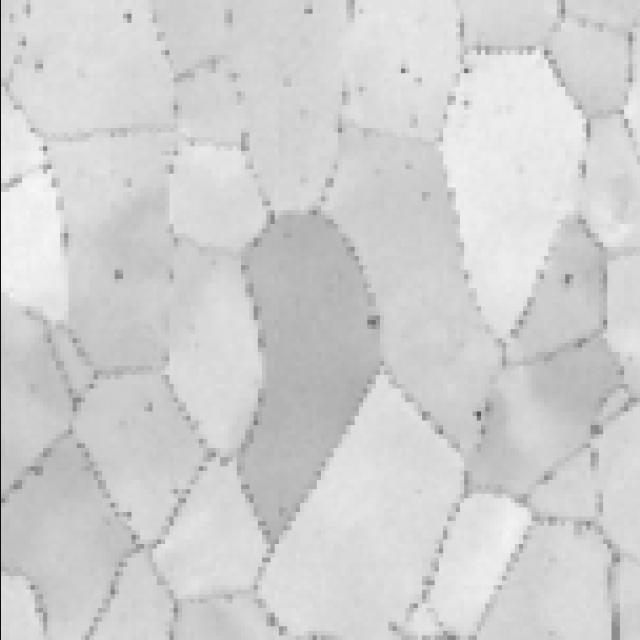good_void: (103, 266, 126, 290), (364, 312, 383, 331), (396, 62, 413, 82), (468, 409, 487, 426), (119, 7, 135, 27), (31, 56, 47, 73), (560, 273, 576, 289), (301, 3, 318, 18)
